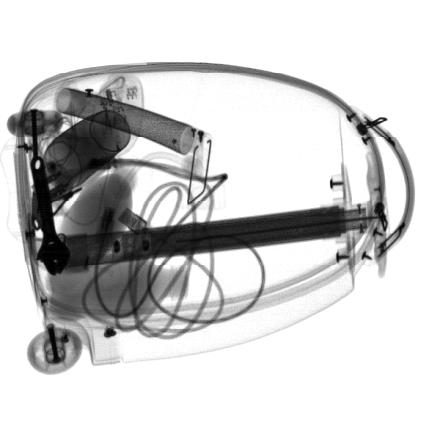Wrench: (30, 155, 70, 277)
